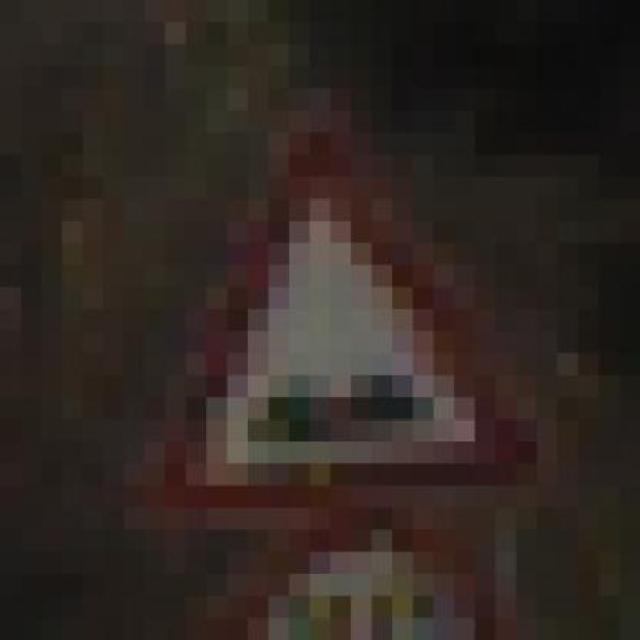Uneven Road: (124, 66, 558, 552)
